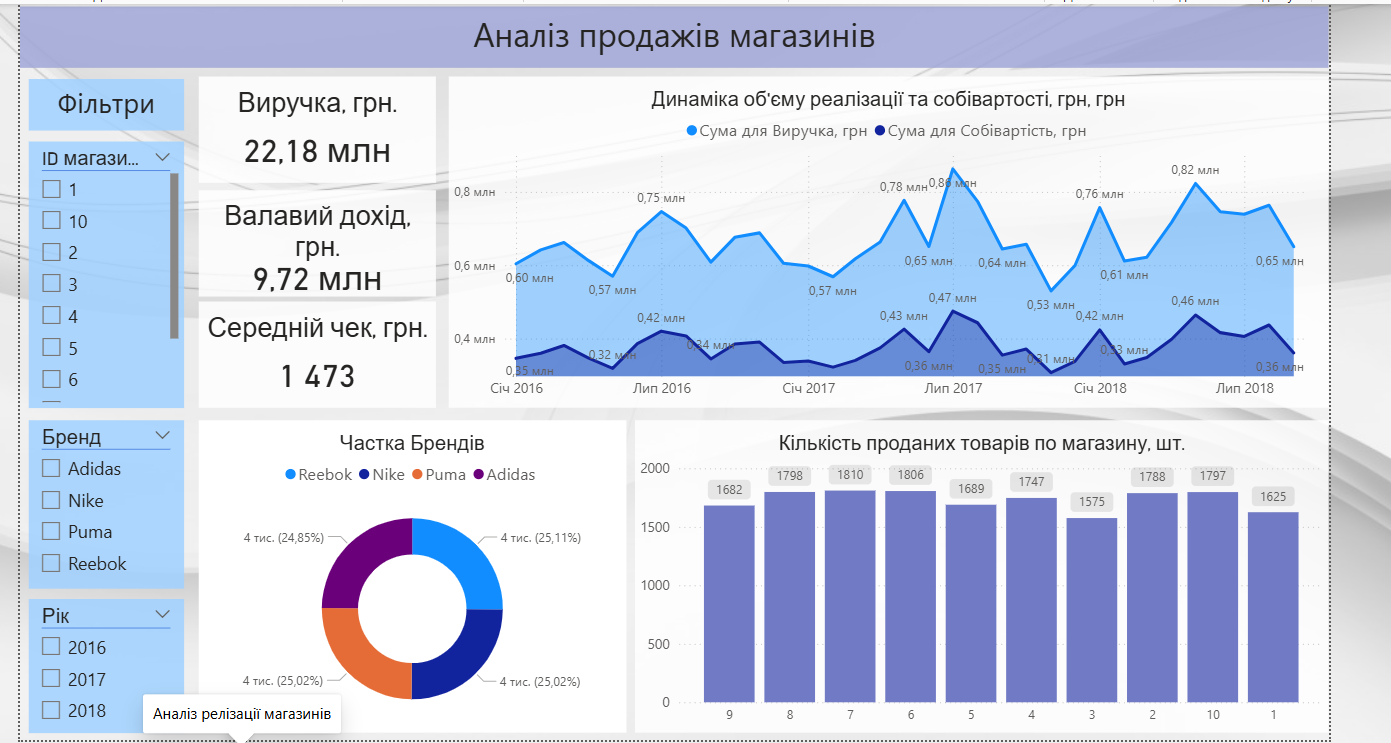

What the dashboard file says about the page in this screenshot:
{"tool":"powerbi","page":{"name":"Аналіз релізації магазинів","canvas":[1280,720],"ordinal":1},"visuals":[{"type":"slicer","fields":{"Values":["КалендарТаблиця.Дата продажу.Варіація.Ієрархія дат.Рік"]},"box":[8.6,582.1,151.6,130.8],"z":0},{"type":"slicer","fields":{"Values":["Реалізація магазинів 1-10.Бренд"]},"box":[8.6,407.2,151.6,165.1],"z":1000},{"type":"columnChart","title":"Кількість проданих товарів по магазину, шт.","fields":{"Category":["Реалізація магазинів 1-10.ID магазину"],"Y":["Sum(Реалізація магазинів 1-10.Кількість товарів)"]},"box":[601.6,407.2,678.7,305.7],"z":2000},{"type":"card","title":"Середній чек, грн.","fields":{"Values":["Міри.Середній чек"]},"box":[174.9,291,232.3,103.9],"z":3000},{"type":"slicer","fields":{"Values":["Реалізація магазинів 1-10.ID магазину"]},"box":[8.6,134.5,151.6,260.5],"z":4000},{"type":"card","title":"Виручка, грн.","fields":{"Values":["Sum(Реалізація магазинів 1-10.Виручка, грн)"]},"box":[174.9,70.9,232.3,103.9],"z":5000},{"type":"card","title":"Валавий дохід, грн.","fields":{"Values":["Sum(Реалізація магазинів 1-10.Валовий дохід)"]},"box":[174.9,182.2,232.3,103.9],"z":6000},{"type":"lineChart","title":"Динаміка об''єму реалізації та собівартості, грн, грн","fields":{"Y":["Sum(Реалізація магазинів 1-10.Виручка, грн)","Sum(Реалізація магазинів 1-10.Собівартість, грн)"],"Category":["КалендарТаблиця.Дата продажу.Варіація.Ієрархія дат.Рік","КалендарТаблиця.Дата продажу.Варіація.Ієрархія дат.Місяць"]},"box":[419.4,70.9,860.9,324.1],"z":7000},{"type":"textbox","box":[0,2.4,1280.3,59.9],"z":8000},{"type":"donutChart","title":"Частка Брендів","fields":{"Category":["Реалізація магазинів 1-10.Бренд"],"Y":["Sum(Реалізація магазинів 1-10.Кількість)"]},"box":[174.9,407.2,418.2,305.7],"z":9000},{"type":"textbox","box":[8.6,73.4,151.6,50.1],"z":10000}]}

Visuals, with their boxes on the page's 1280x720 design canvas (x1, y1, x2, y2). These are canvas units, not pixel positions in the 1391x743 screenshot, which may show the page scaled, cropped or inside an application window:
slicer - КалендарТаблиця.Дата продажу.Варіація.Ієрархія дат.Рік: 9:582:160:713
slicer - Реалізація магазинів 1-10.Бренд: 9:407:160:572
"Кількість проданих товарів по магазину, шт." columnChart: 602:407:1280:713
"Середній чек, грн." card: 175:291:407:395
slicer - Реалізація магазинів 1-10.ID магазину: 9:134:160:395
"Виручка, грн." card: 175:71:407:175
"Валавий дохід, грн." card: 175:182:407:286
"Динаміка об''єму реалізації та собівартості, грн, грн" lineChart: 419:71:1280:395
textbox: 0:2:1280:62
"Частка Брендів" donutChart: 175:407:593:713
textbox: 9:73:160:124
